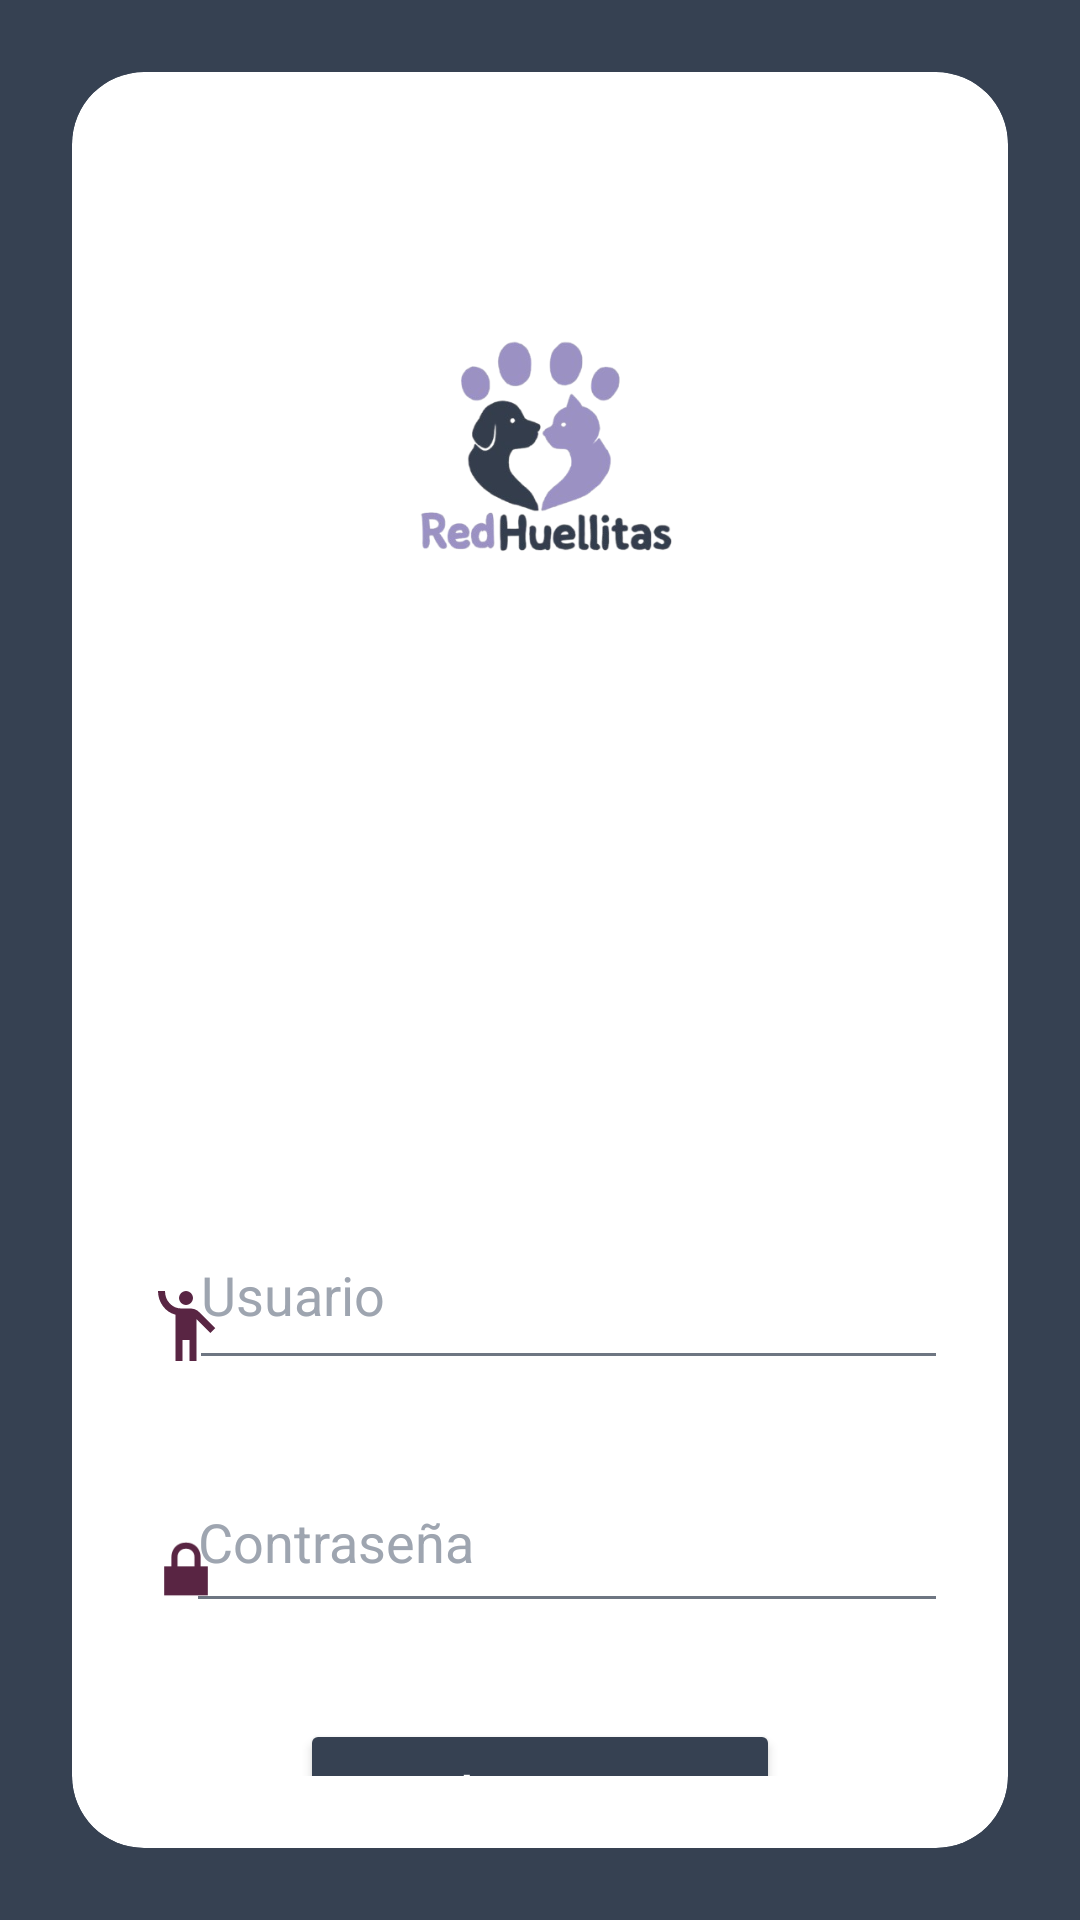

Where icons sit on this 1080x1920 app screen, as bbox(x1, y1, x2, y2):
lock: bbox(164, 1527, 228, 1599)
